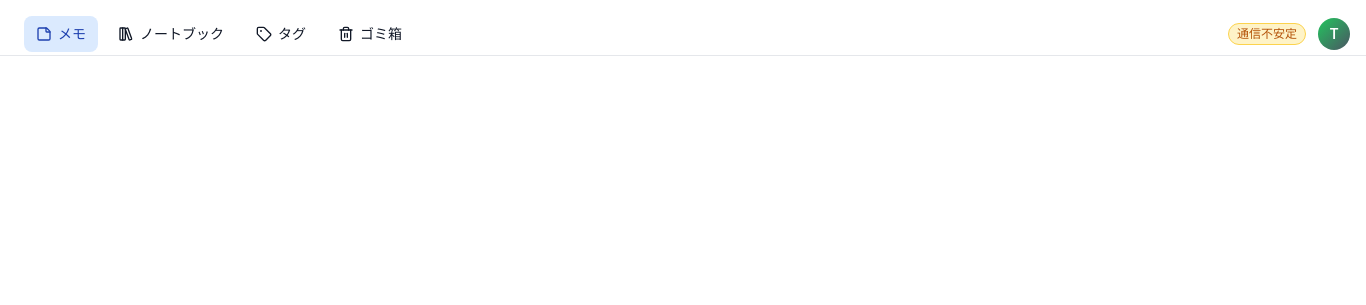
Test case: Task 4.7 (d) 認証フロー副作用なし › 「設定」導線がトークン化後も存在する（認証メニューが欠落しない）
Click the button titled "Test User" at (1334, 34), box [1318,18,1350,50]
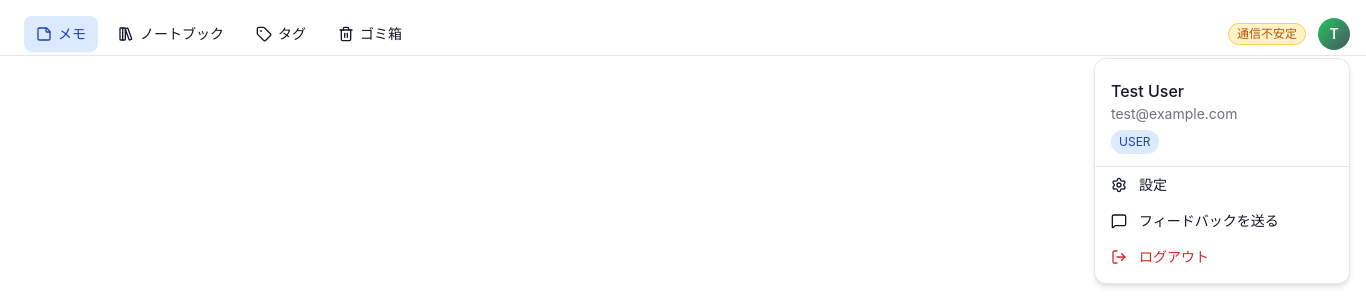
Check: the link "設定" is shown, box [1111,176,1167,193]
